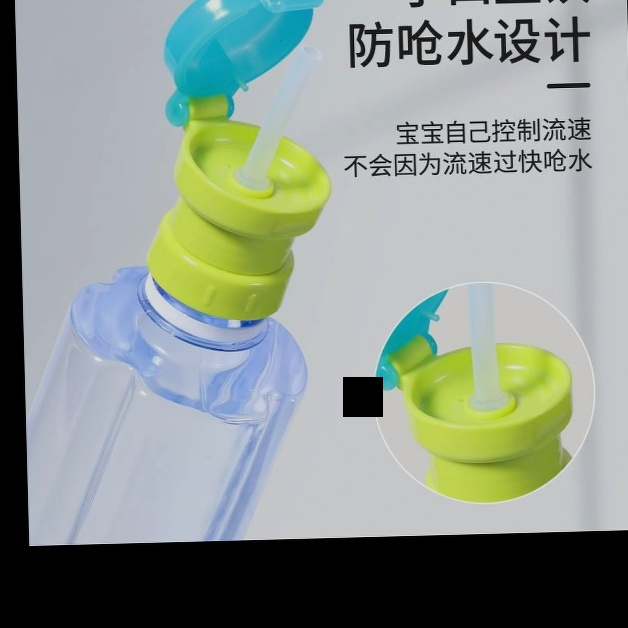bottle: (25, 215, 334, 541)
